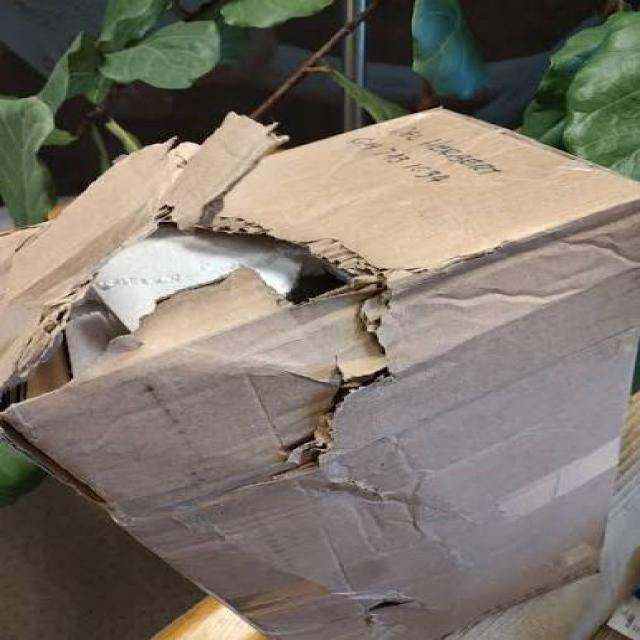package_damage: (0, 145, 486, 532), (316, 576, 469, 632)
